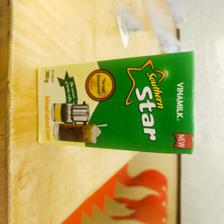NSPN_Hop: (35, 49, 196, 156)
